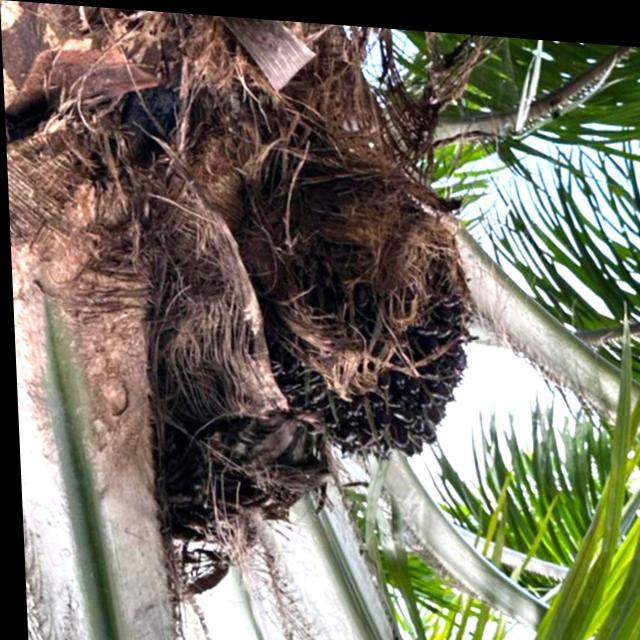almost: (244, 171, 478, 467)
